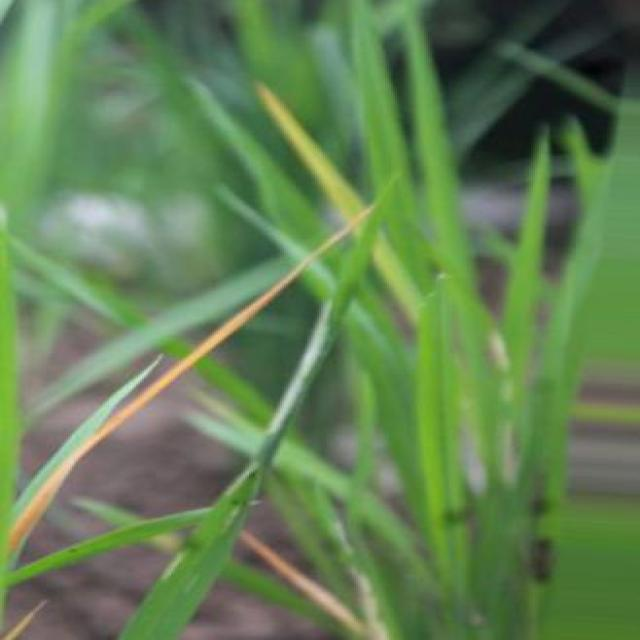Rice Tungro: (7, 209, 370, 553), (242, 530, 363, 633)
